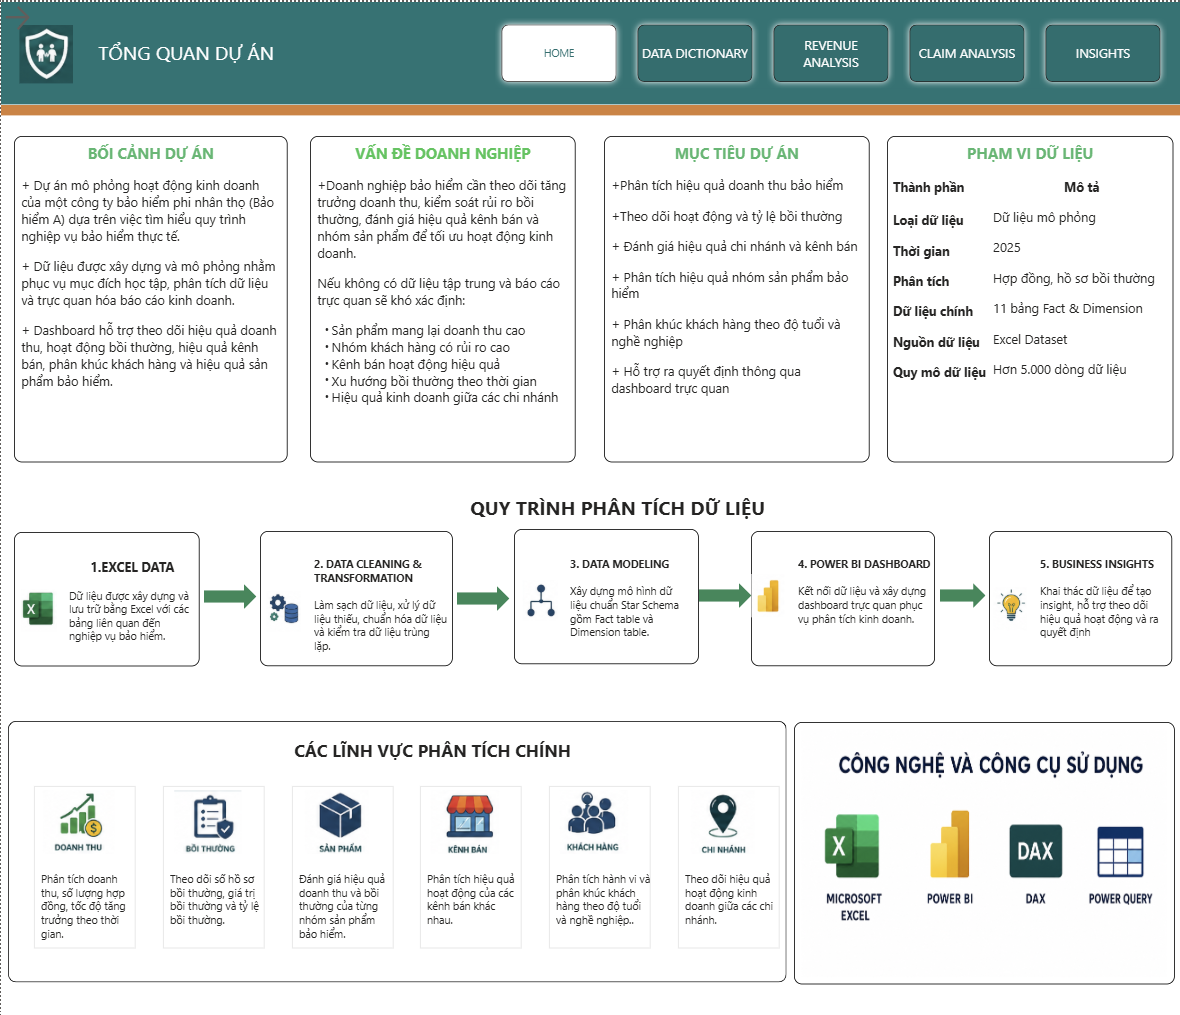

What the dashboard file says about the page in this screenshot:
{"tool":"powerbi","page":{"name":"Introduction","canvas":[1280,720],"ordinal":0},"visuals":[{"type":"actionButton","box":[76,320,102,78],"z":0},{"type":"actionButton","box":[76,420,102,76],"z":1000},{"type":"actionButton","box":[84,132,102,74],"z":2000},{"type":"textbox","box":[414.3,105.7,225.7,62.9],"z":3000},{"type":"textbox","box":[868.6,105.7,231.4,62.9],"z":4000},{"type":"textbox","box":[371.4,168.6,321.4,82.9],"z":5000},{"type":"textbox","box":[374.3,277.1,321.4,98.6],"z":6000},{"type":"textbox","box":[371.4,382.9,321.4,107.1],"z":7000},{"type":"textbox","box":[844.3,172.9,321.4,74.3],"z":8000},{"type":"textbox","box":[844.3,277.1,321.4,98.6],"z":9000},{"type":"textbox","box":[843.3,378.6,321.4,82.9],"z":10000},{"type":"textbox","box":[372.9,507.1,321.4,97.1],"z":11000},{"type":"textbox","box":[845.7,480,321.4,68.6],"z":12000},{"type":"textbox","box":[847.1,562.9,321.4,82.9],"z":13000},{"type":"actionButton","box":[76,532,100,40],"z":14000},{"type":"actionButton","box":[84,246,122,38],"z":15000}]}

Visuals, with their boxes on the page's 1280x720 design canvas (x1, y1, x2, y2). These are canvas units, not pixel positions in the 1180x1015 screenshot, which may show the page scaled, cropped or inside an application window:
actionButton: 76 320 178 398
actionButton: 76 420 178 496
actionButton: 84 132 186 206
textbox: 414 106 640 169
textbox: 869 106 1100 169
textbox: 371 169 693 252
textbox: 374 277 696 376
textbox: 371 383 693 490
textbox: 844 173 1166 247
textbox: 844 277 1166 376
textbox: 843 379 1165 462
textbox: 373 507 694 604
textbox: 846 480 1167 549
textbox: 847 563 1168 646
actionButton: 76 532 176 572
actionButton: 84 246 206 284
